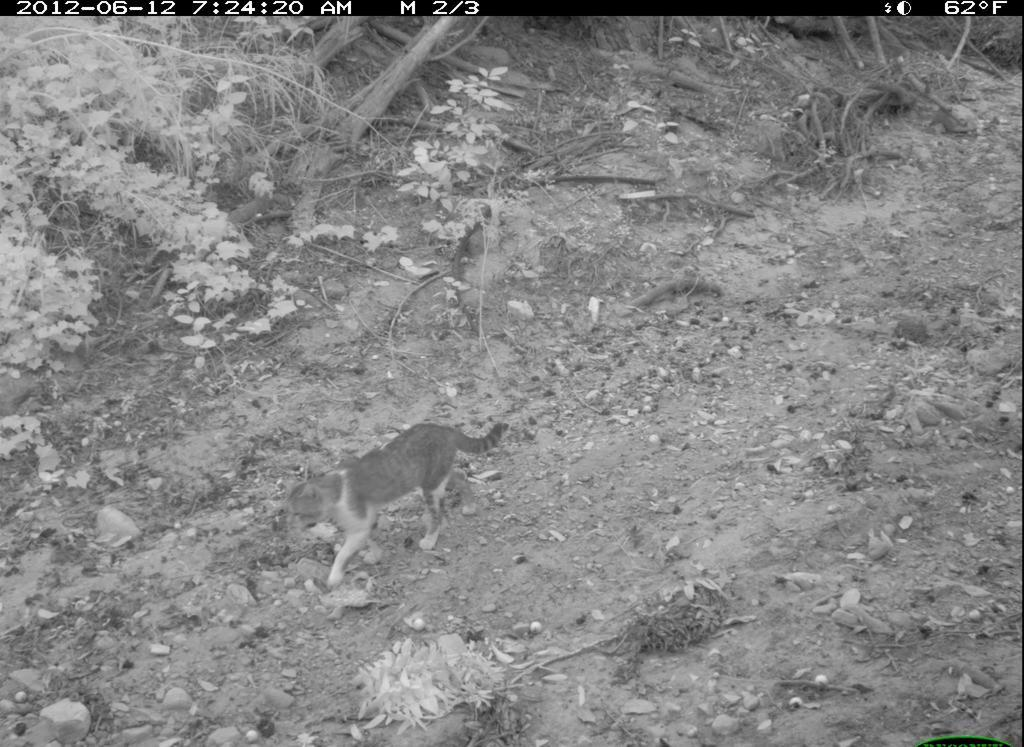cat: (271, 413, 519, 594)
